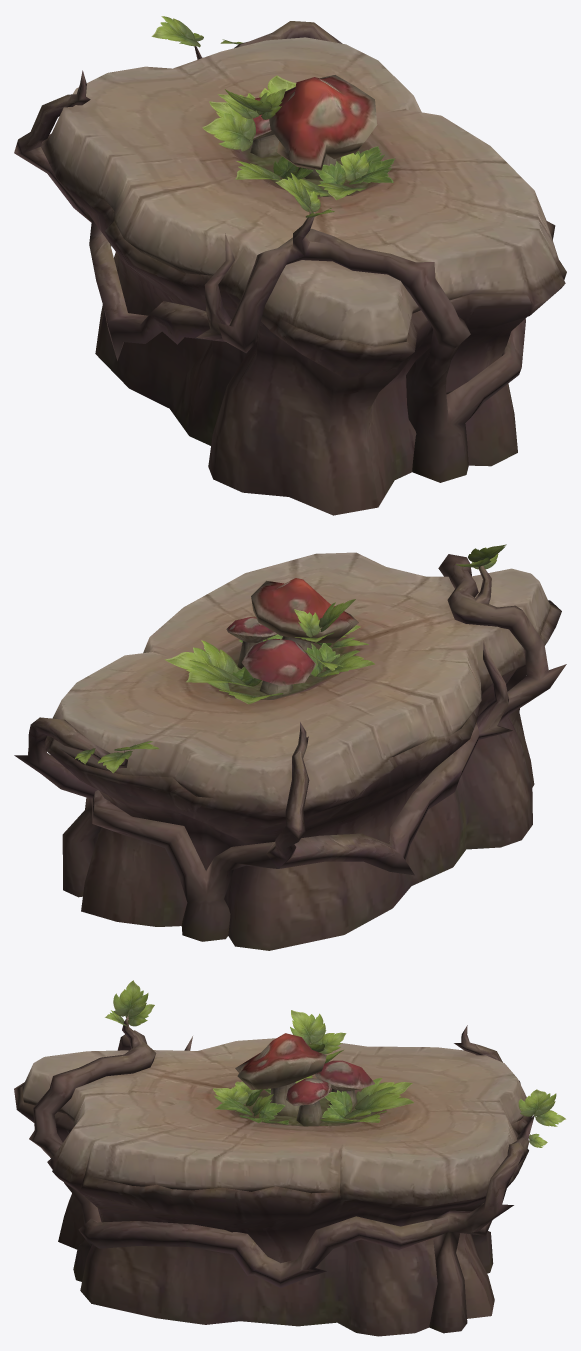
3 renders of one model, top to bottom at view 1: azimuth 30°, elevation 25°; view 2: azimuth 150°, elevation 25°; view 3: azimuth 270°, elevation 25°, orthographic. The views are drawn at different scales.
Bounding box in the file's own units: 1.93 × 1.49 × 3.11.
2 materials, 2 textured.
